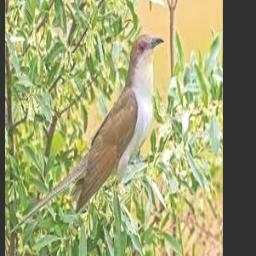Cuckoo: (11, 34, 165, 233)
